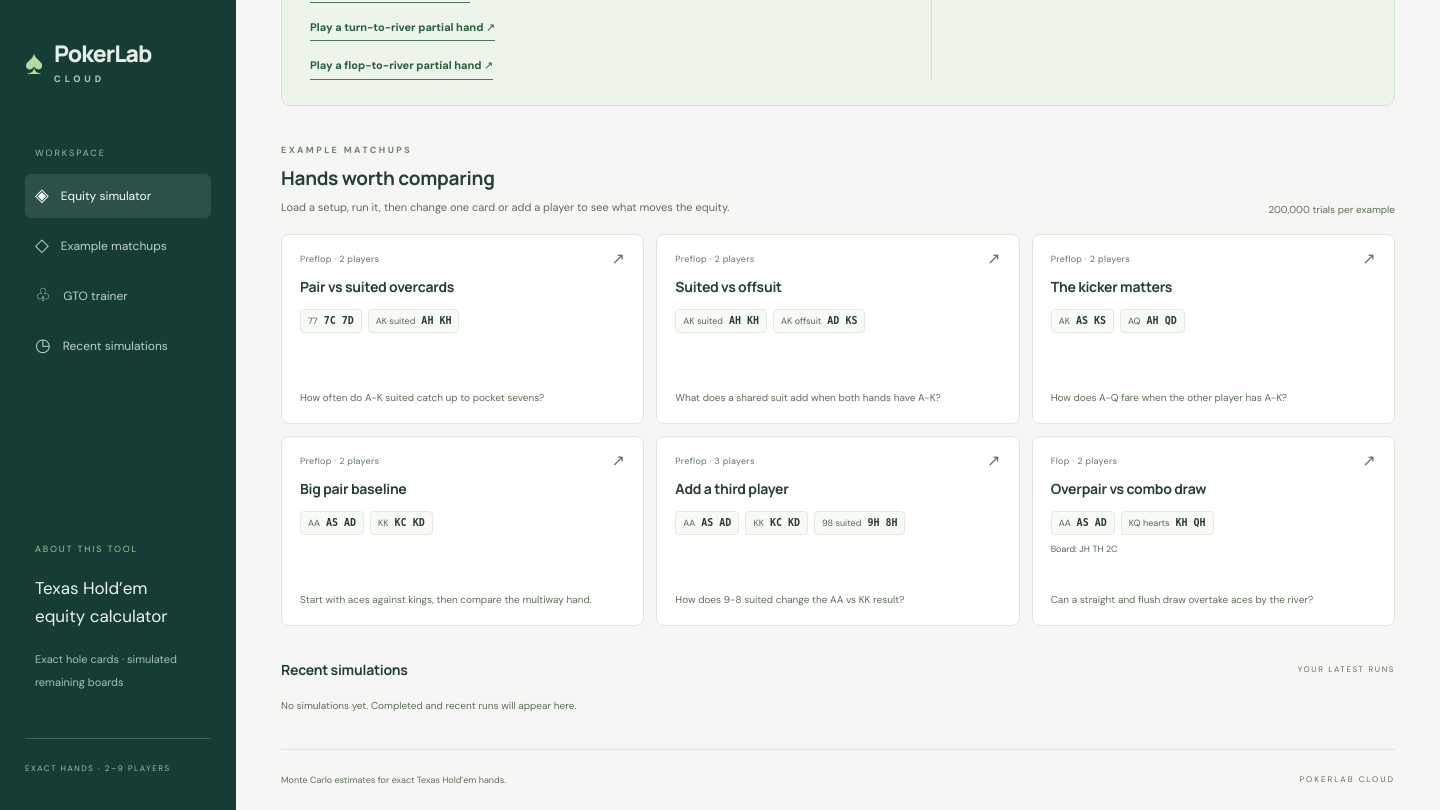
Test case: replaces board and player count when switching examples
(page scrolled)
Click the button with aria-label "Load Overpair vs combo draw".
click(1213, 531)  # box [1032, 436, 1395, 626]
(page scrolled)
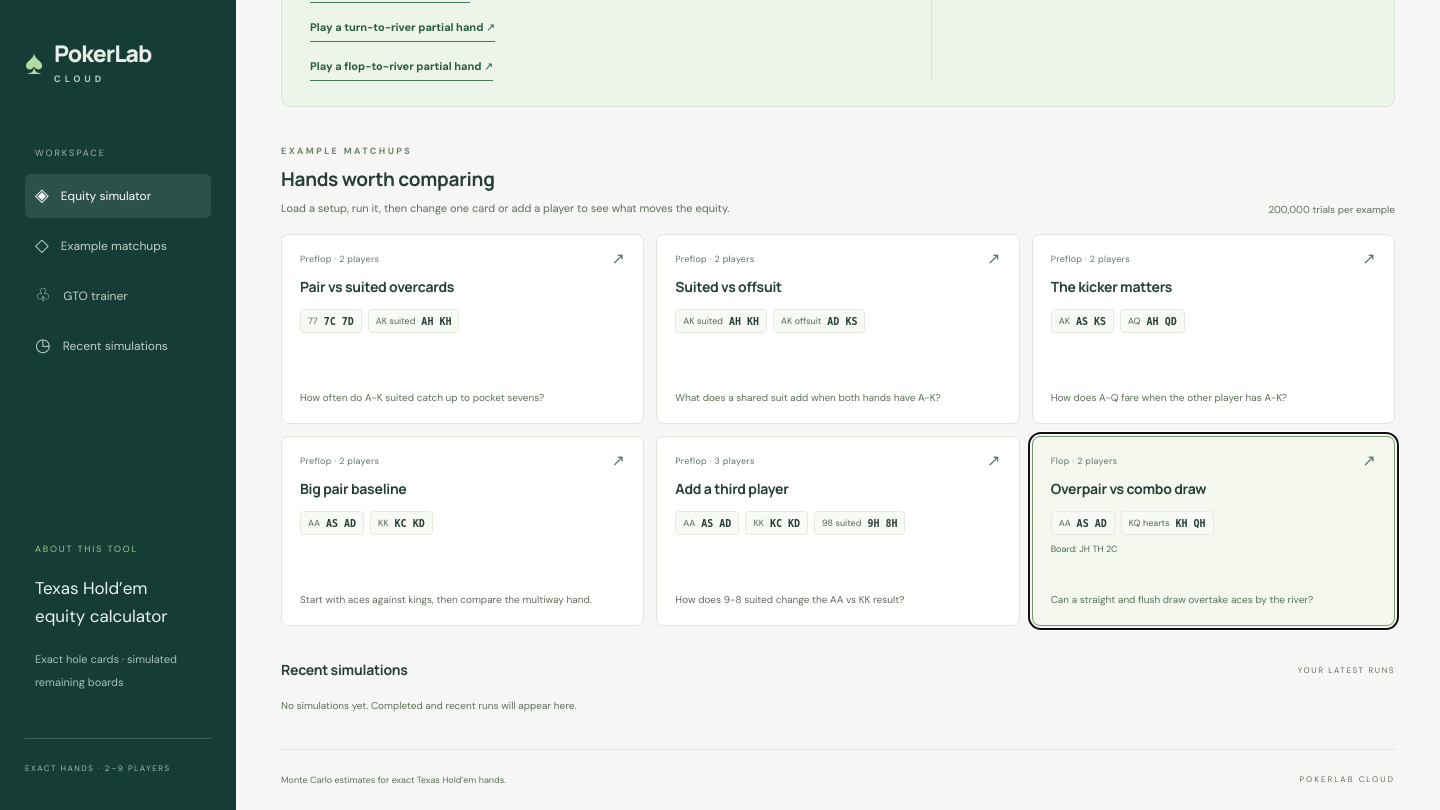
Click the button with aria-label "Load Add a third player".
click(838, 531)  # box [656, 436, 1020, 626]
(page scrolled)
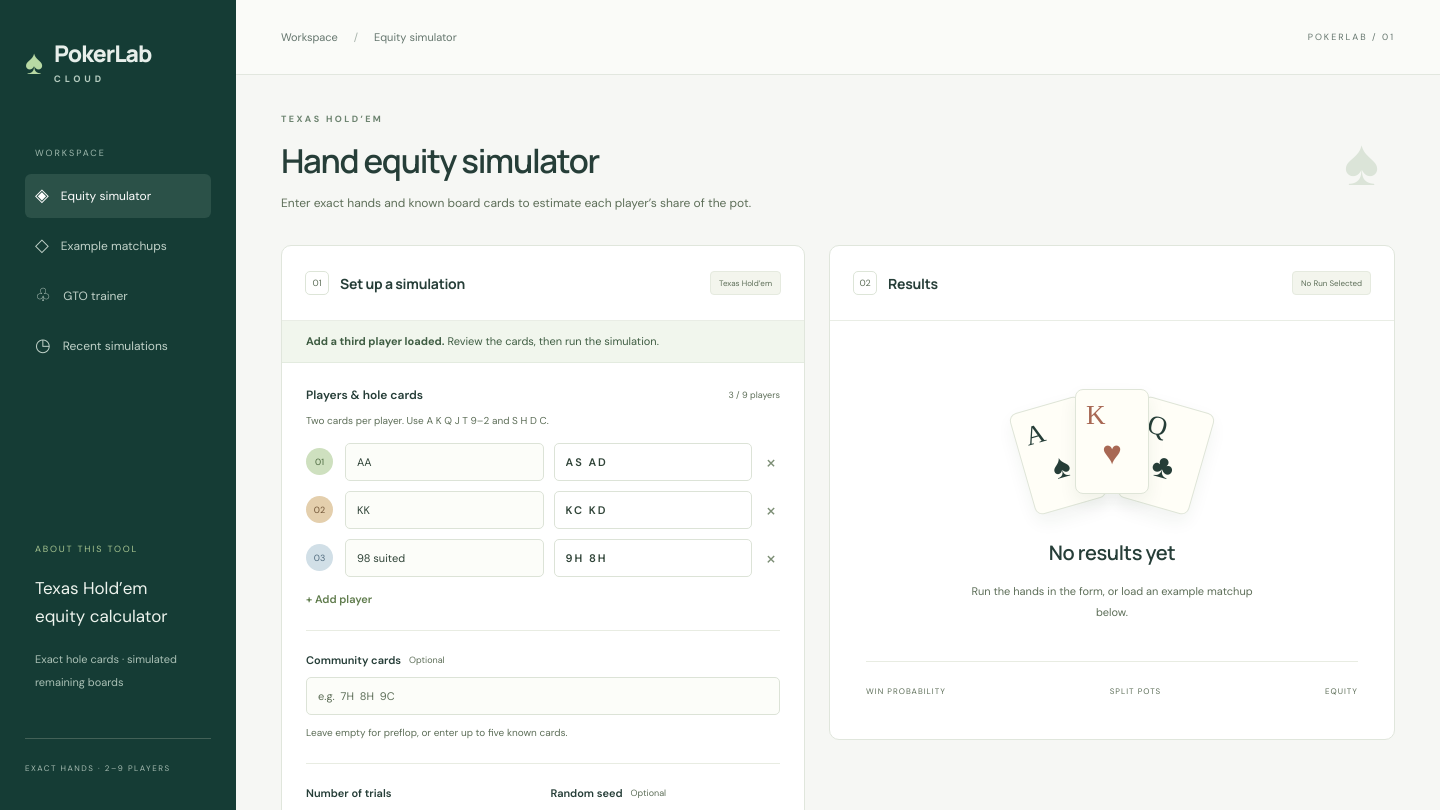
Check: the field labelled "Community cards Optional" is empty, box [306, 676, 780, 714]
Check: the field named "Player 3 hole cards" holds "9H 8H", box [554, 538, 752, 576]
Check: the text "3 / 9 players" is shown, box [728, 388, 780, 400]
